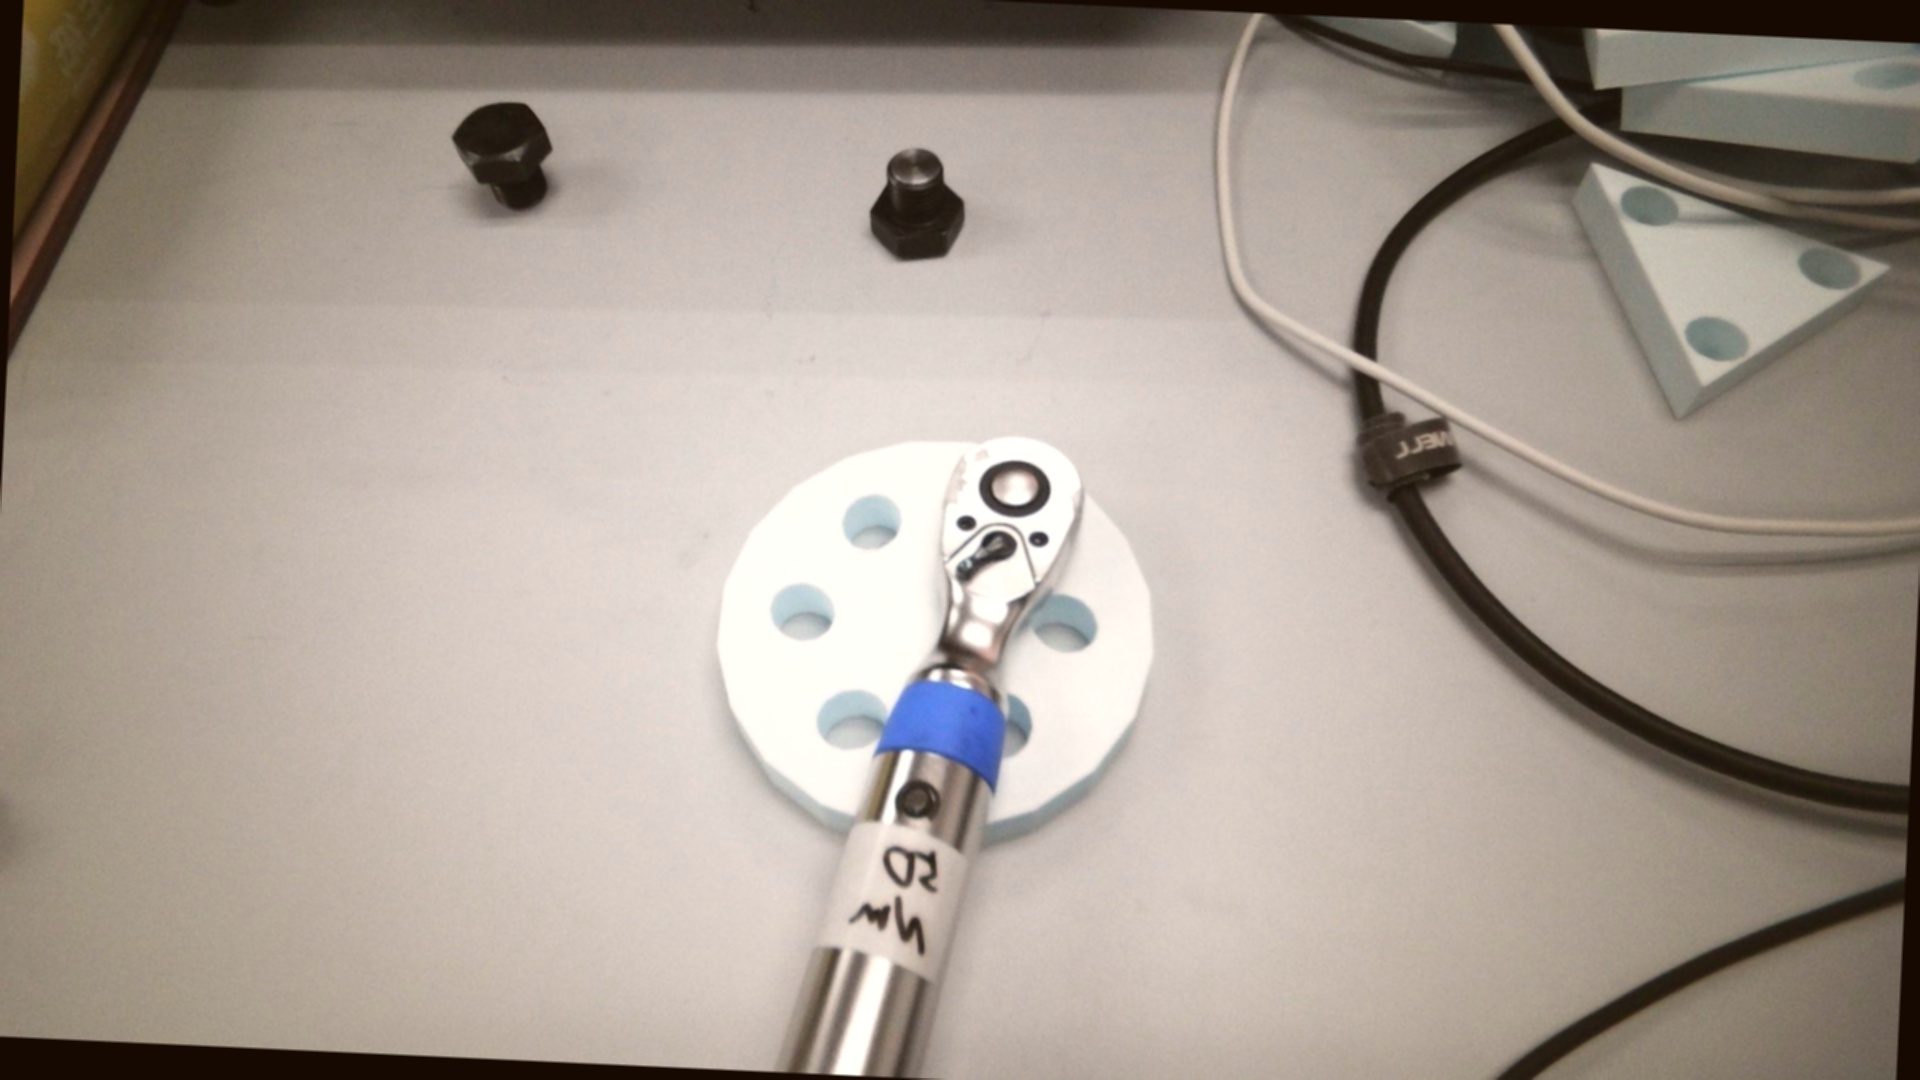hole: (814, 688, 887, 752), (1029, 592, 1098, 655), (837, 492, 902, 555), (767, 582, 835, 641), (996, 691, 1035, 758)
obj: (708, 429, 1160, 856)
wrench: (977, 458, 1052, 522)
